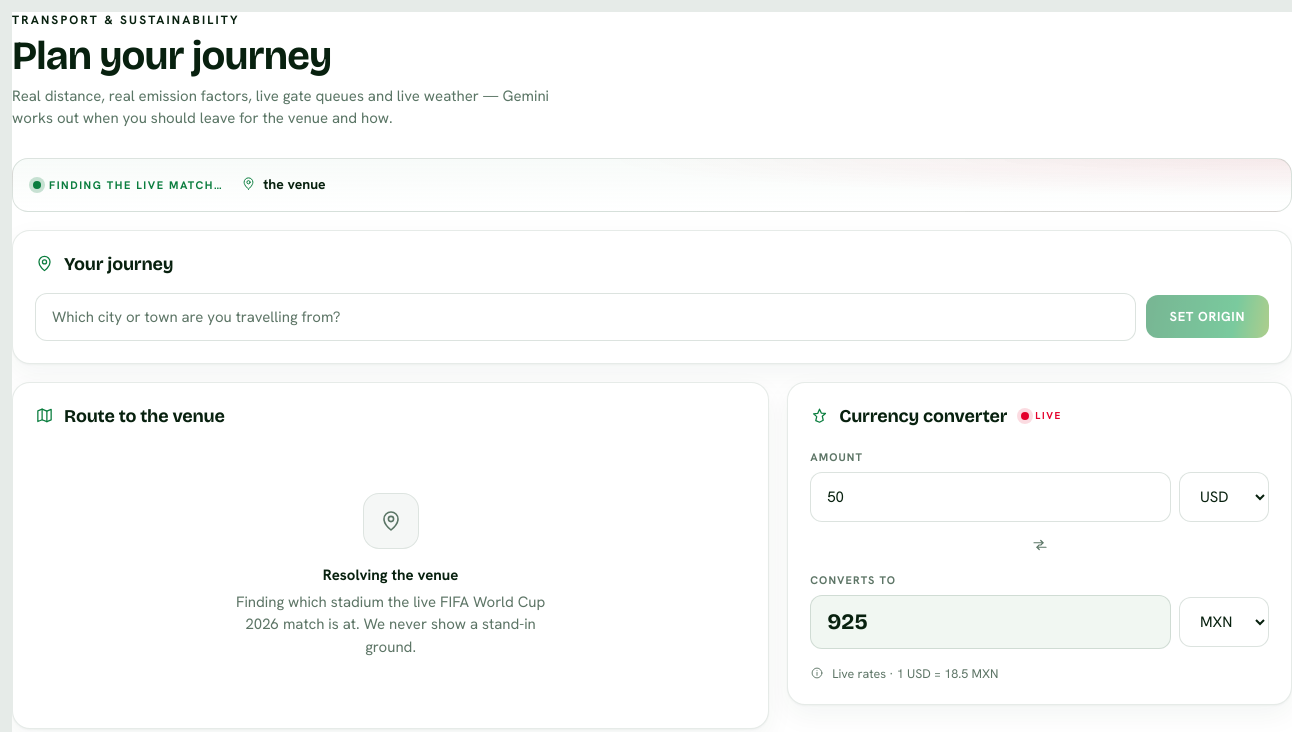
Test: FanTransport › converts currency with live rates and shows a pending state for an unresolved venue
This screenshot has width=1292, height=732.
Expected: the text "Resolving the venue" is shown, [323,565,458,585]
Expected: the text "925" is shown, [810,595,1171,649]
Replace the text in the field labelled "Amount" with "100" at (991, 497), box [810,472,1171,522]
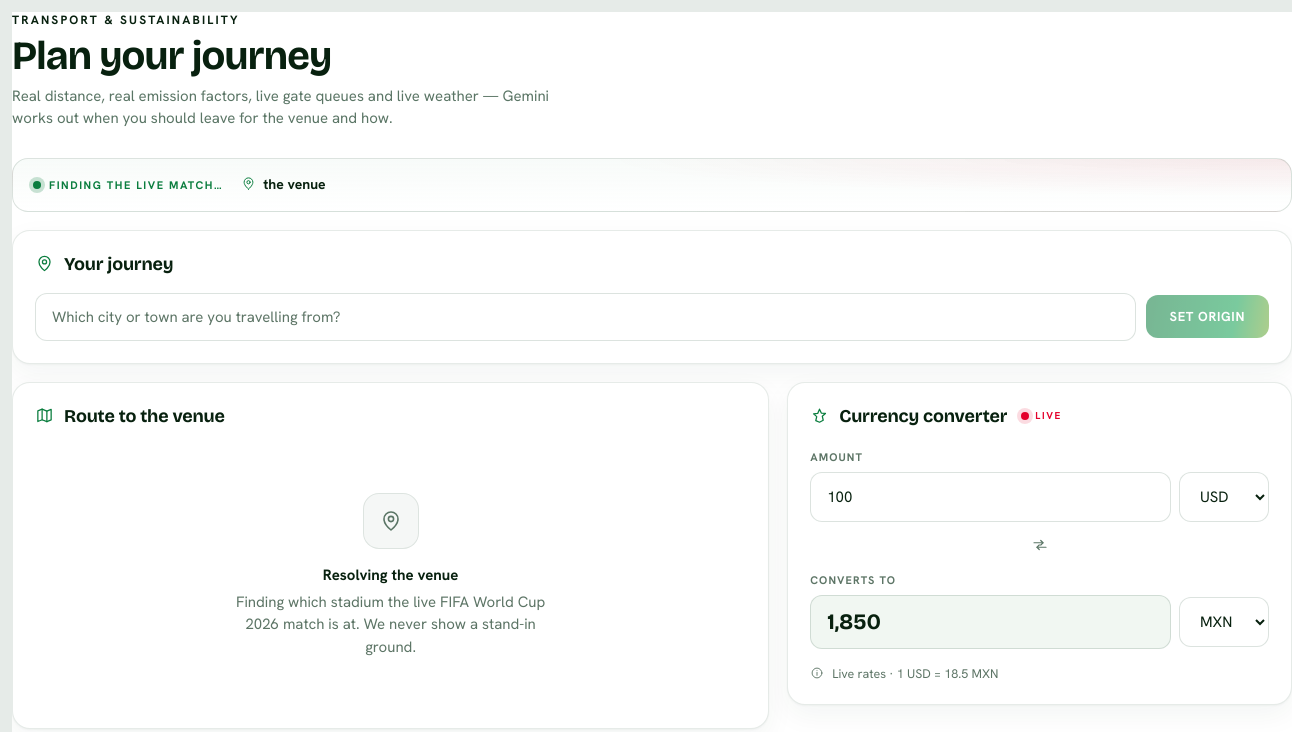
Now the text "1,850" is shown, box [810,595,1171,649]
Select "EUR" in the dropdown named "Currency to convert to" at (1224, 622), box [1179,597,1269,647]
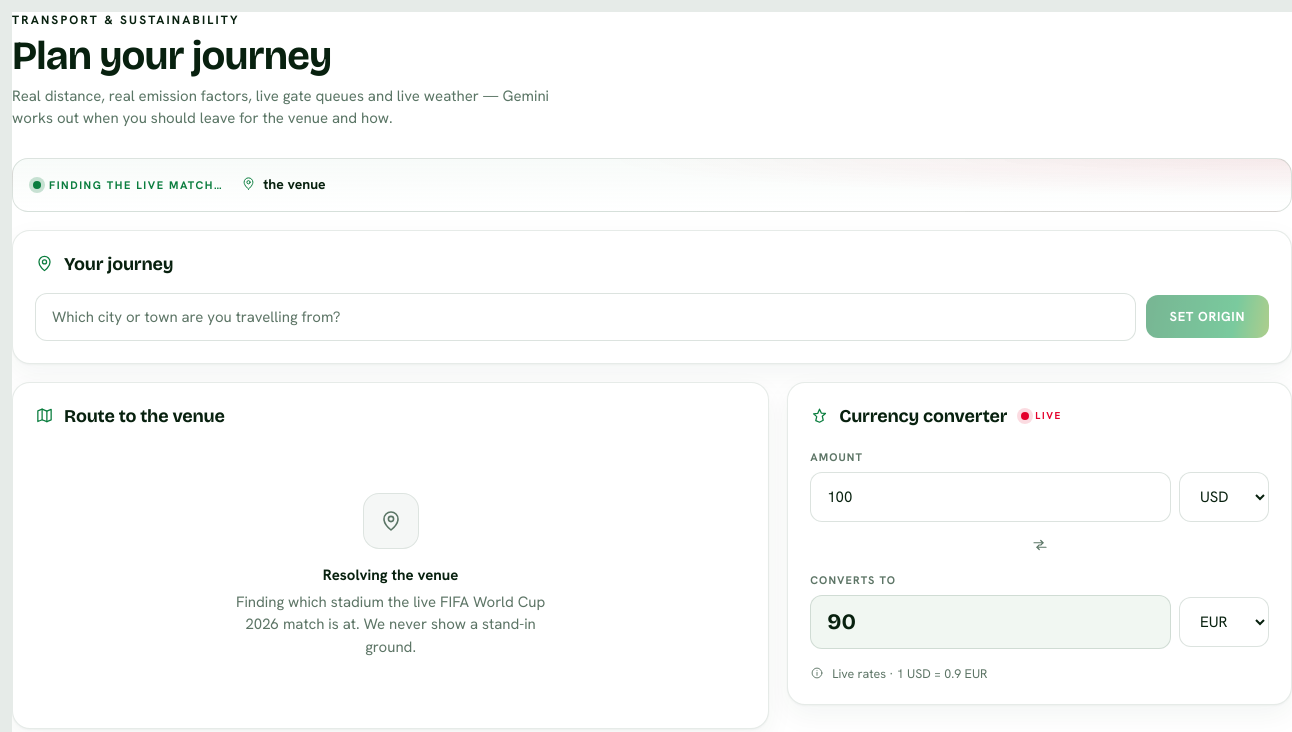
Now the text "90" is shown, box [810,595,1171,649]
